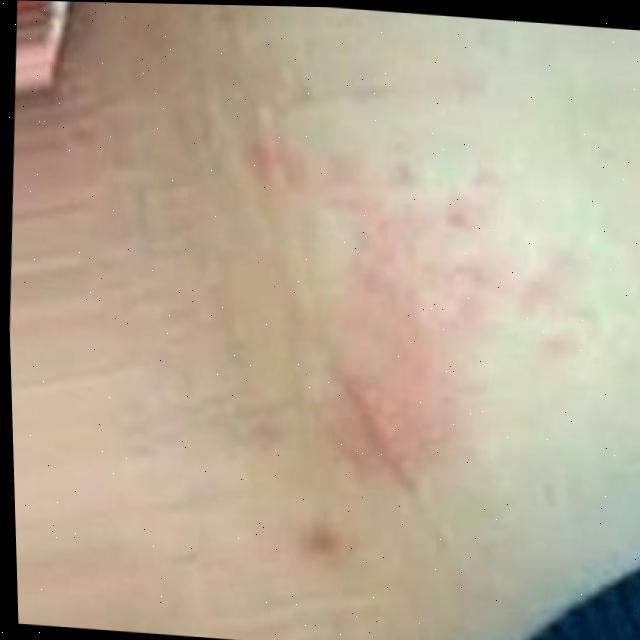Shingles: (317, 177, 501, 471)
